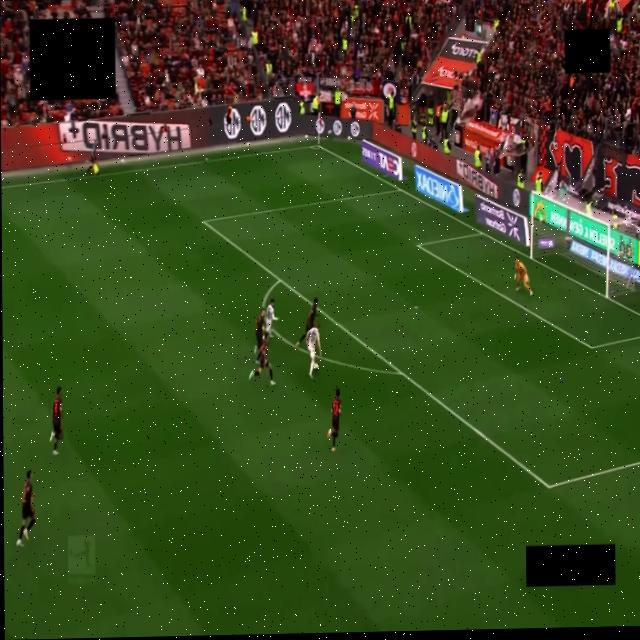ball: (314, 363, 318, 369)
player: (16, 470, 34, 547), (249, 338, 275, 385), (295, 298, 317, 346), (327, 389, 341, 452), (306, 323, 321, 378), (49, 387, 61, 455), (514, 258, 531, 295), (254, 307, 264, 361), (265, 299, 277, 338)
